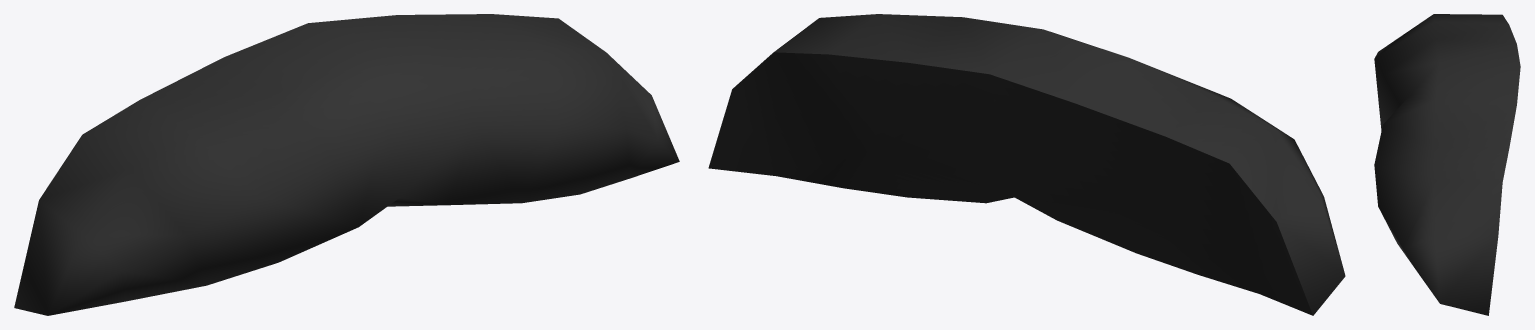
The model's file is Mustache_13.fbx.
3 views of the same model, side by side, from view 1: azimuth 30°, elevation 25°; view 2: azimuth 150°, elevation 25°; view 3: azimuth 270°, elevation 25° (orthographic). The views are drawn at different scales.
Visible parts, largest first — view 1: Mustache_13; view 2: Mustache_13; view 3: Mustache_13.
Part boxes in pixels (x1,y1,x2,y2): Mustache_13: [14, 14, 679, 315]; Mustache_13: [708, 14, 1345, 315]; Mustache_13: [1374, 14, 1520, 315].
Size of the model in its own units: 26.47 by 7.9 by 7.36.
